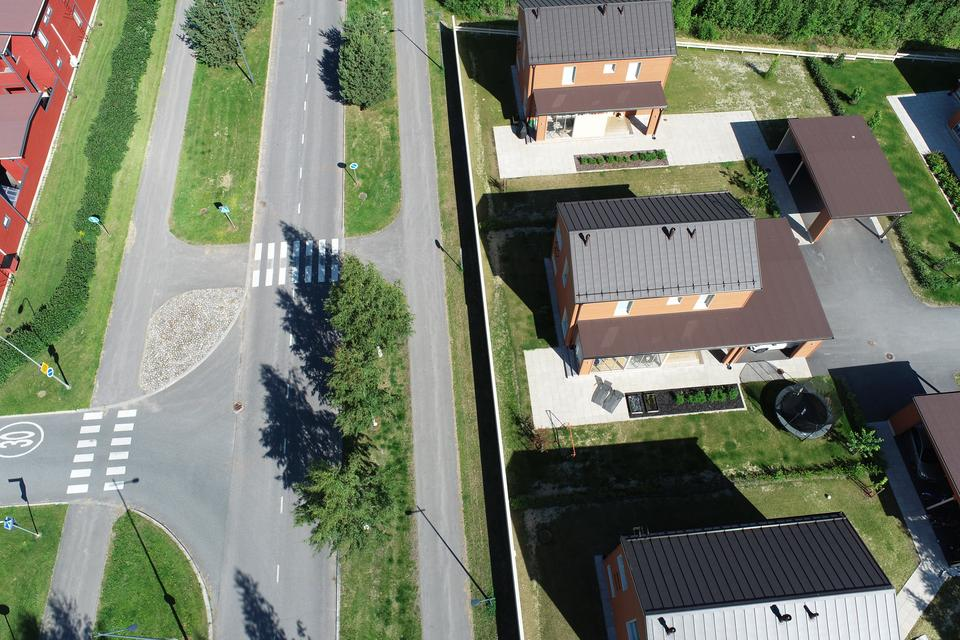intersection: (0, 371, 381, 541), (98, 201, 461, 322)
